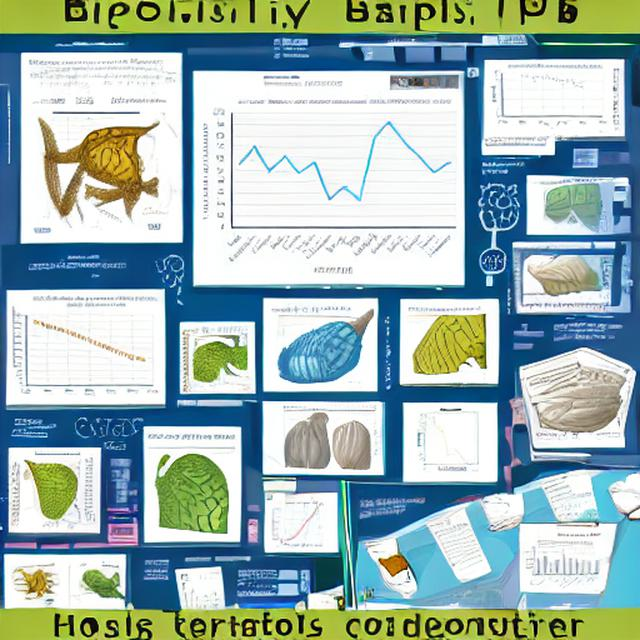Graph: (196, 93, 460, 281), (8, 294, 163, 401), (487, 61, 610, 134), (405, 404, 495, 472), (520, 540, 601, 588), (266, 498, 335, 550)
